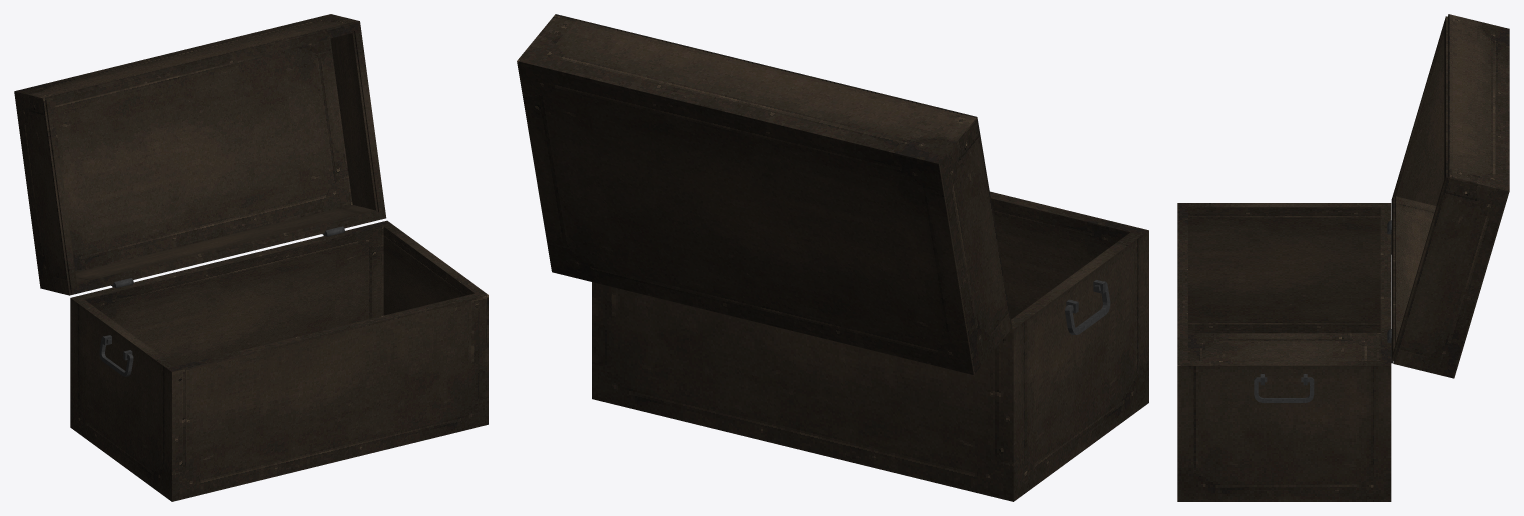
Rendered from wooden_crate_2_c.glb.
3 views of the same model, side by side, from view 1: azimuth 30°, elevation 25°; view 2: azimuth 150°, elevation 25°; view 3: azimuth 270°, elevation 25° (orthographic). The views are drawn at different scales.
Parts seen in each view (by area): view 1: wooden_crate_2_c, wooden_crate_2_c_lid; view 2: wooden_crate_2_c_lid, wooden_crate_2_c; view 3: wooden_crate_2_c, wooden_crate_2_c_lid.
Boxes of the visible parts, <box> form: wooden_crate_2_c: <box>70,220,488,501</box>; wooden_crate_2_c_lid: <box>14,14,386,295</box>; wooden_crate_2_c_lid: <box>517,14,1012,374</box>; wooden_crate_2_c: <box>592,191,1148,501</box>; wooden_crate_2_c: <box>1177,203,1392,501</box>; wooden_crate_2_c_lid: <box>1391,14,1509,378</box>.
Bounding box in the file's own units: 0.9492 × 0.8393 × 0.7768.
Materials: 1 (1 with a texture image).
